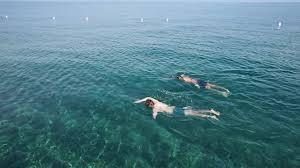swimmer: (131, 95, 221, 122), (173, 70, 233, 100)
